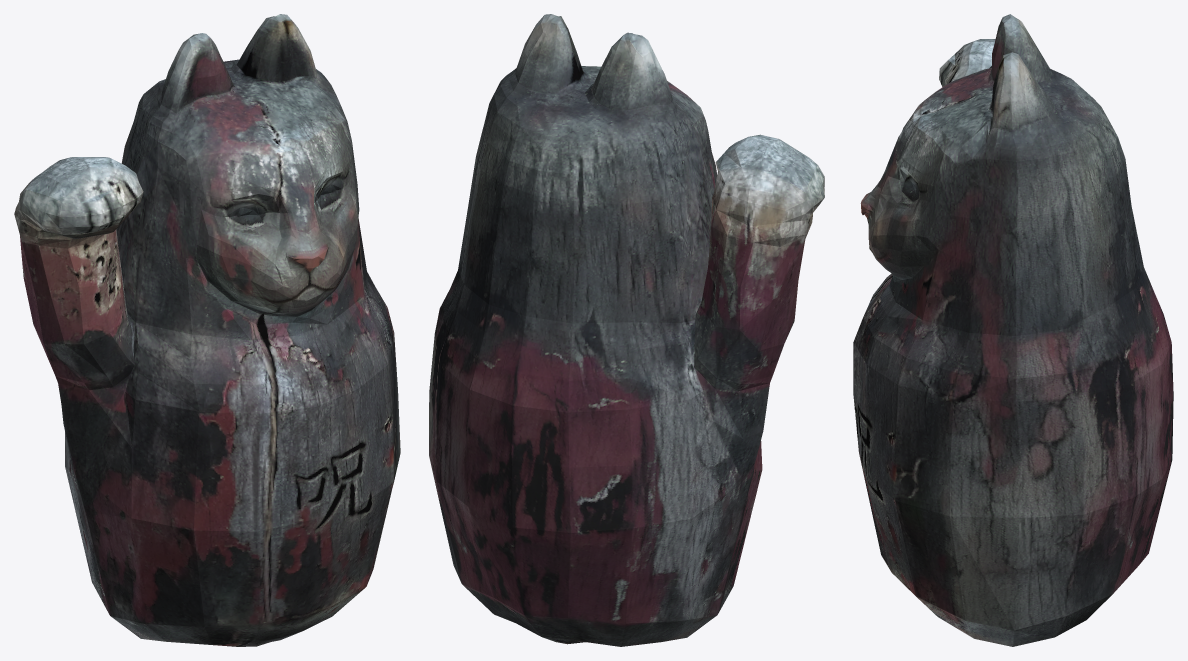
The model's file is Collector01.fbx.
The picture shows the model from 3 angles, left to right: view 1: azimuth 30°, elevation 25°; view 2: azimuth 150°, elevation 25°; view 3: azimuth 270°, elevation 25°; orthographic projection. The views are drawn at different scales.
Parts seen in each view (by area): view 1: mesh_node; view 2: mesh_node; view 3: mesh_node.
Boxes of the visible parts, x1,y1,x2,y2 form: mesh_node: [14, 14, 400, 646]; mesh_node: [429, 14, 824, 646]; mesh_node: [853, 14, 1173, 646].
Size of the model in its own units: 62.11 by 99.8 by 50.59.
Materials: 1 (1 with a texture image).
